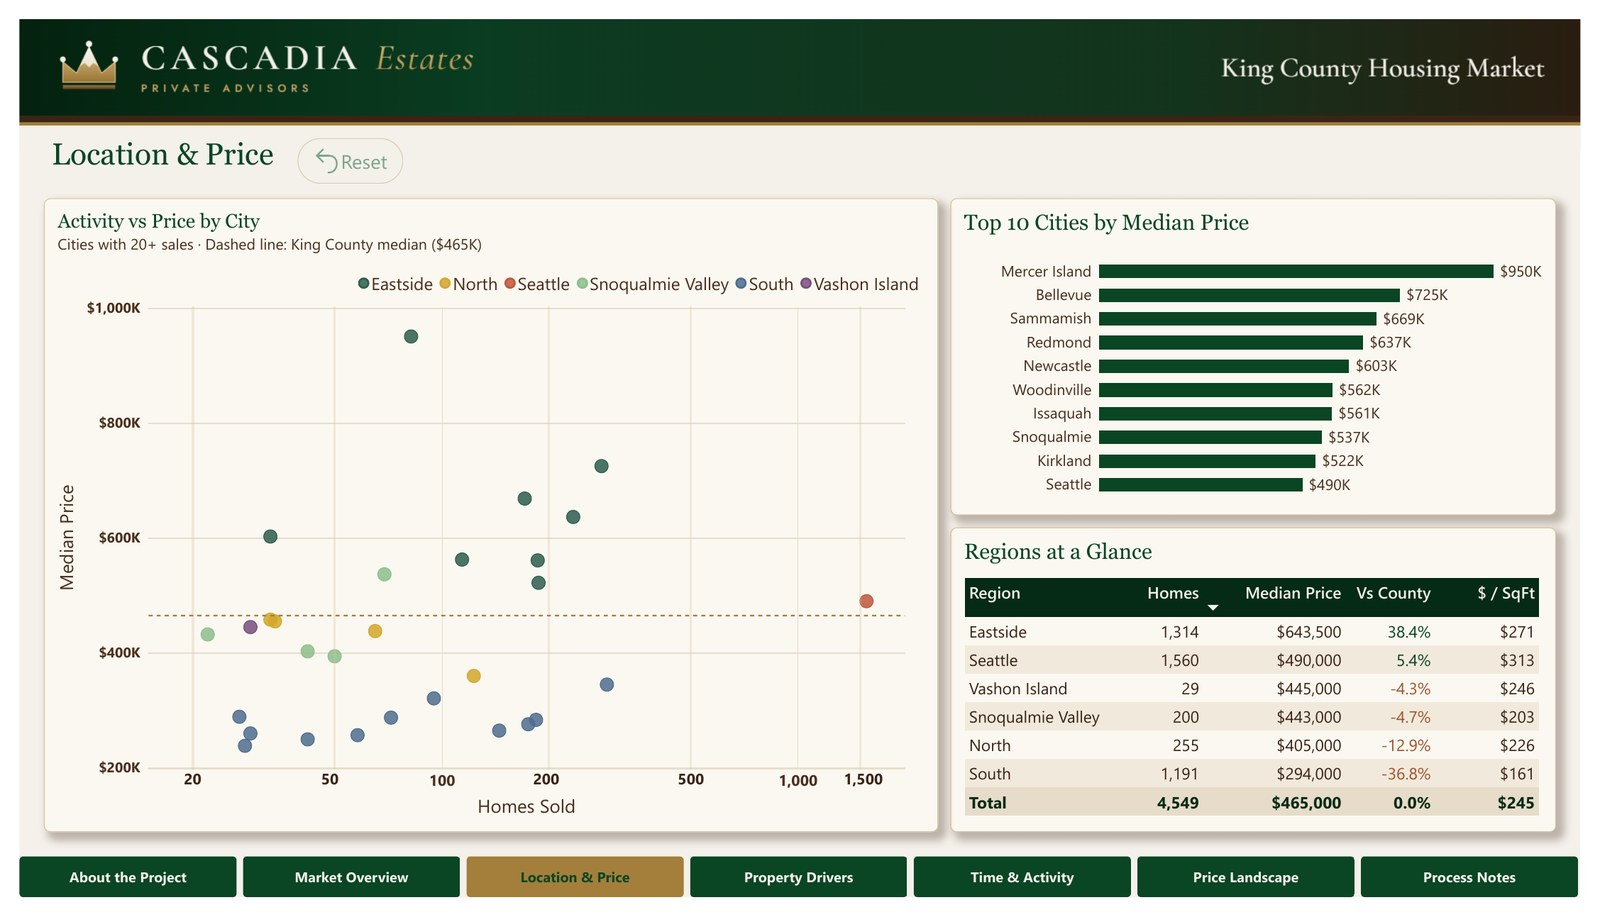

This screenshot's page, from the dashboard's own definition file:
{"tool":"powerbi","page":{"name":"Location & Price","canvas":[1920,1080],"ordinal":2},"visuals":[{"type":"image","box":[0,0,1920,130],"z":0},{"type":"pageNavigator","box":[0,1030,1920,50],"z":1000},{"type":"scatterChart","title":"Activity vs Price by City","fields":{"Category":["Dim_Location.city"],"Series":["Dim_Location.region"],"X":["!Measures.Homes Sold"],"Y":["!Measures.Reliable Median Price"]},"box":[30,220,1100,780],"z":3000,"group":"g1"},{"type":"clusteredBarChart","title":"Top 10 Cities by Median Price","fields":{"Category":["Dim_Location.city"],"Y":["!Measures.Reliable Median Price"]},"box":[1145,220,745,390],"z":4000},{"type":"tableEx","title":"Regions at a Glance","fields":{"Values":["Dim_Location.region","!Measures.Homes Sold","!Measures.Median Price","!Measures.Price vs County %","!Measures.Median Price per SqFt"]},"box":[1145,625,745,375],"z":5000},{"type":"textbox","box":[30,145,375,70],"z":5500},{"type":"textbox","box":[183,922,60,34],"z":6000,"group":"g1"},{"type":"textbox","box":[352,922,60,34],"z":7000,"group":"g1"},{"type":"textbox","box":[618,922,60,34],"z":8000,"group":"g1"},{"type":"textbox","box":[796,922,60,34],"z":9000,"group":"g1"},{"type":"textbox","box":[1008,922,60,34],"z":10000,"group":"g1"},{"type":"group","id":"g1","title":"Group 1","box":[30,220,1100,780],"z":10001},{"type":"actionButton","title":"Reset filters","box":[342,146,130,56],"z":10002}]}

Visuals, with their boxes in screenshot pixels (x1, y1, x2, y2), scaled from the page's 1920x1080 canvas onto the 1600x917 screenshot:
image: region(0, 0, 1599, 110)
pageNavigator: region(0, 875, 1599, 916)
"Activity vs Price by City" scatterChart: region(25, 187, 942, 849)
"Top 10 Cities by Median Price" clusteredBarChart: region(954, 187, 1575, 518)
"Regions at a Glance" tableEx: region(954, 531, 1575, 849)
textbox: region(25, 123, 338, 183)
textbox: region(152, 783, 202, 812)
textbox: region(293, 783, 343, 812)
textbox: region(515, 783, 565, 812)
textbox: region(663, 783, 713, 812)
textbox: region(840, 783, 890, 812)
"Group 1" group: region(25, 187, 942, 849)
"Reset filters" actionButton: region(285, 124, 393, 172)
